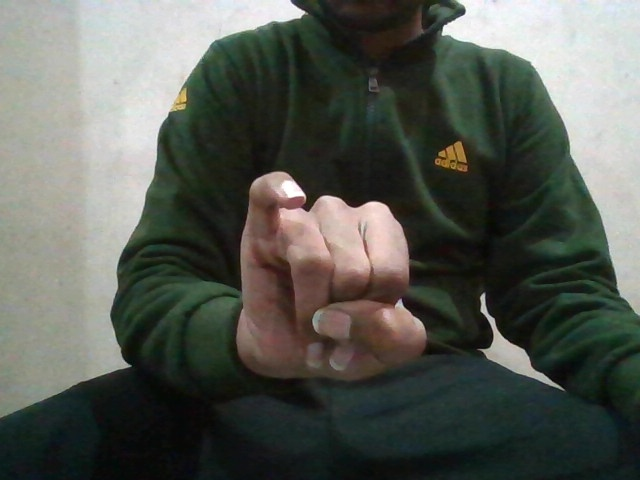J: (235, 167, 422, 384)
